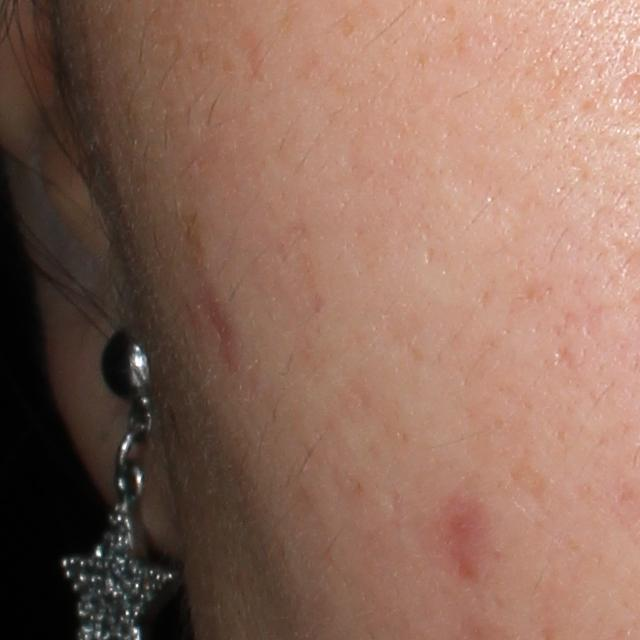atrophic_scar: (442, 153, 547, 228), (207, 290, 240, 368), (423, 246, 436, 265)
